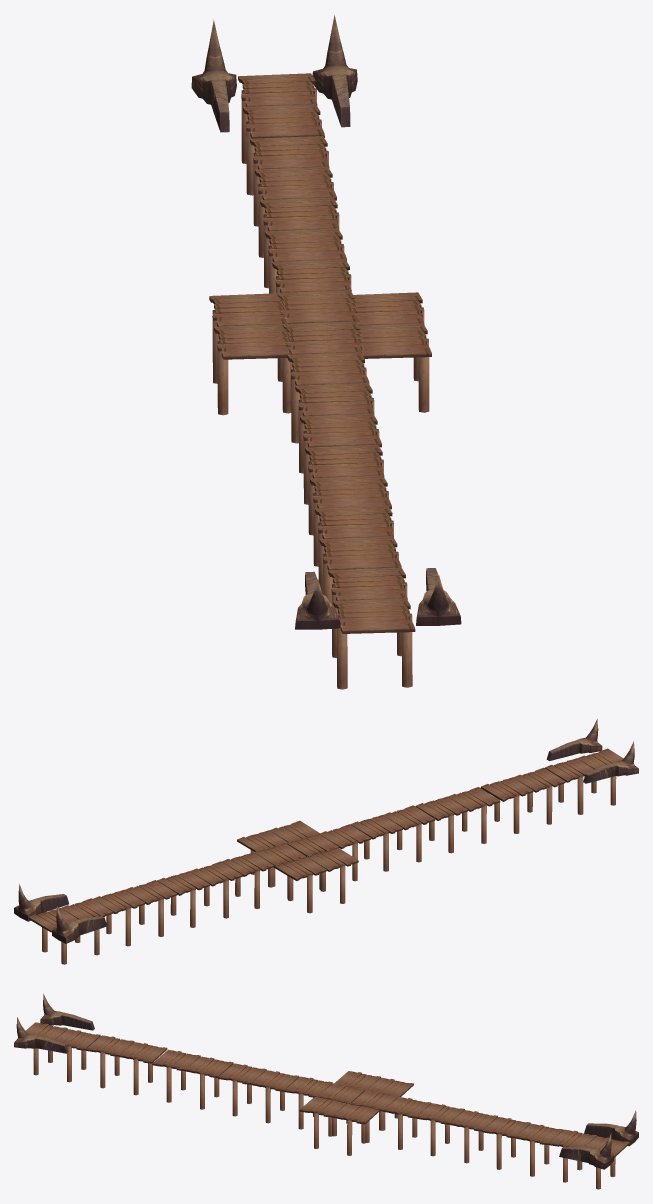
The model's file is area_09_10.fbx.
3 views of the same model, one above another, from view 1: azimuth 30°, elevation 25°; view 2: azimuth 150°, elevation 25°; view 3: azimuth 270°, elevation 25° (orthographic). The views are drawn at different scales.
Parts seen in each view (by area): view 1: area_09_10; view 2: area_09_10; view 3: area_09_10.
Boxes of the visible parts, box(x1,y1,x2,y2) form: area_09_10: box(191, 15, 461, 689); area_09_10: box(14, 719, 638, 964); area_09_10: box(14, 993, 638, 1189).
Size of the model in its own units: 63.63 by 12.84 by 112.
